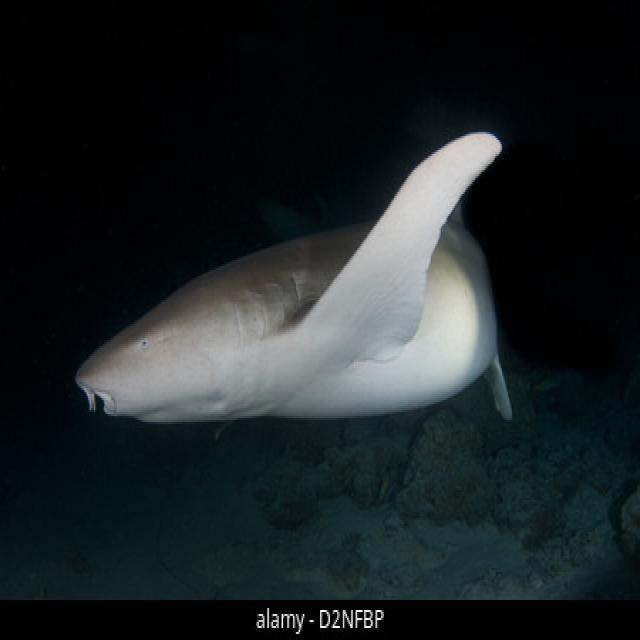Shark: (29, 74, 538, 464)
